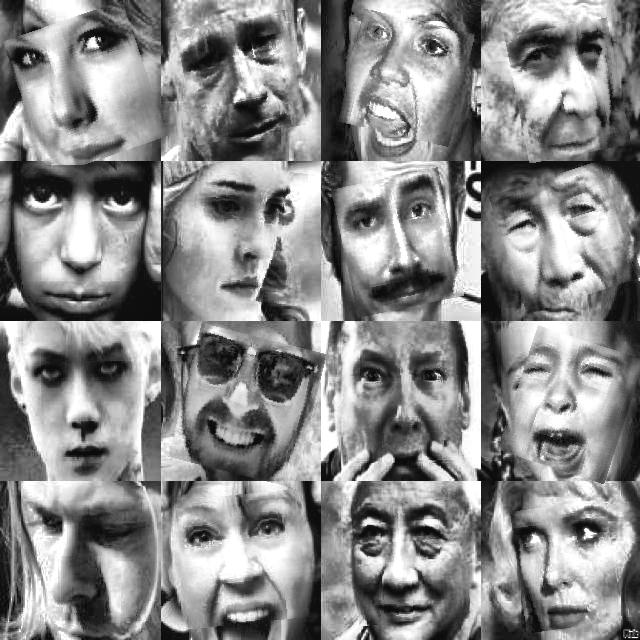angry: (344, 15, 470, 141)
fear: (178, 491, 306, 626), (348, 345, 464, 463)
happy: (13, 8, 159, 167), (176, 330, 319, 482), (337, 172, 458, 313), (353, 501, 469, 625)
neutral: (510, 22, 626, 159), (34, 486, 146, 626), (18, 337, 136, 466), (28, 165, 146, 293), (514, 501, 618, 630)
sad: (497, 167, 635, 307), (506, 332, 636, 477), (190, 165, 305, 303), (180, 14, 301, 141)
